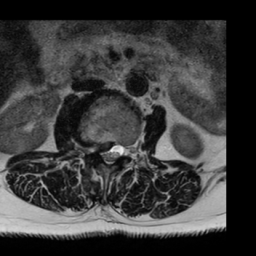CCS_normal: (105, 139, 112, 169)
LFS_normal: (122, 139, 131, 162)
LLS_normal: (113, 138, 122, 164)
RFS_stenosis: (89, 138, 98, 163)
RLS_severe_stenosis: (98, 142, 105, 164)
